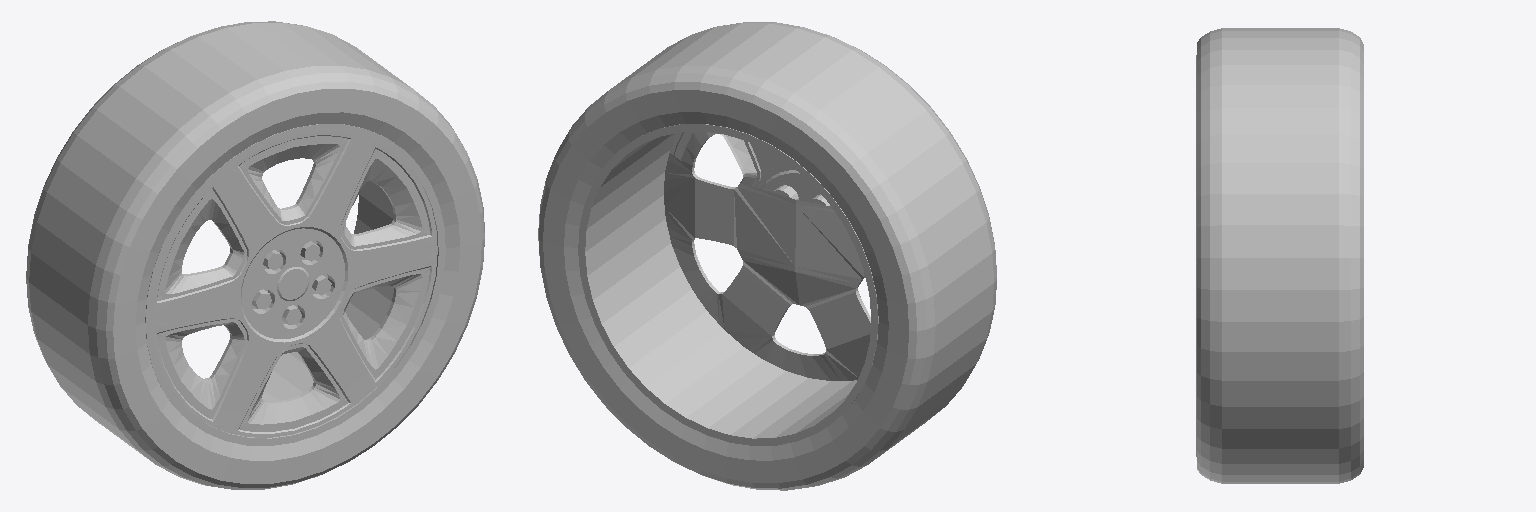
3 renders of one model, left to right at view 1: azimuth 30°, elevation 25°; view 2: azimuth 150°, elevation 25°; view 3: azimuth 270°, elevation 25°, orthographic.
Parts seen in each view (by area): view 1: Y613_901C_R_Y613_901C_R_1_DM, Y613_901C_R_Y613_901C_R_3_DaS, Y613_901C_R_2_D_Y613_901C_R; view 2: Y613_901C_R_Y613_901C_R_1_DM, Y613_901C_R_Y613_901C_R_3_DaS; view 3: Y613_901C_R_Y613_901C_R_1_DM.
Part boxes in pixels (bbox=[...]): Y613_901C_R_Y613_901C_R_1_DM: bbox=[26, 21, 484, 489]; Y613_901C_R_Y613_901C_R_3_DaS: bbox=[145, 124, 445, 445]; Y613_901C_R_2_D_Y613_901C_R: bbox=[277, 267, 309, 300]; Y613_901C_R_Y613_901C_R_1_DM: bbox=[538, 22, 996, 490]; Y613_901C_R_Y613_901C_R_3_DaS: bbox=[578, 124, 878, 445]; Y613_901C_R_Y613_901C_R_1_DM: bbox=[1196, 28, 1363, 483].
Size of the model in its own units: 86.31 by 86.31 by 31.78.